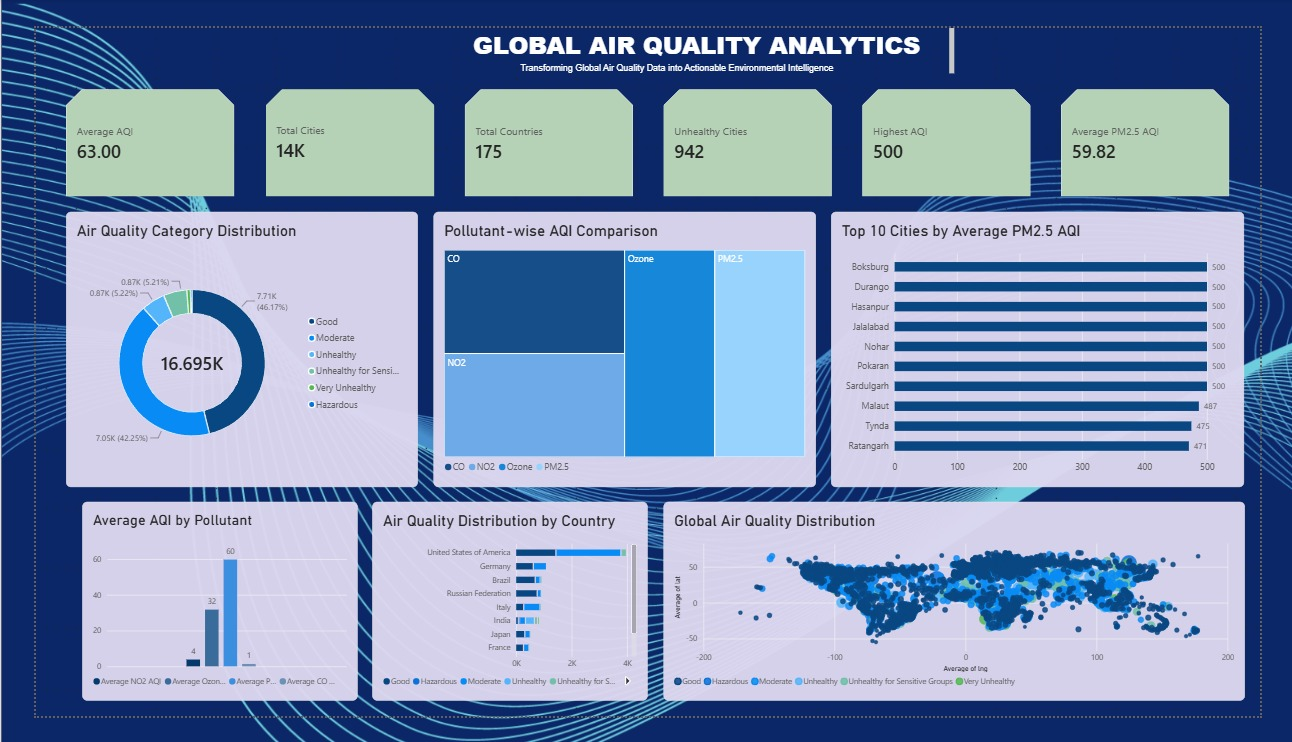

The dashboard page shown, as its layout file describes it:
{"tool":"powerbi","page":{"name":"Page 1","canvas":[1920,1080],"ordinal":0},"visuals":[{"type":"cardVisual","fields":{"Data":["Dataset_Task_03.Average AQI"]},"box":[48,96,264,168],"z":0},{"type":"cardVisual","fields":{"Data":["Dataset_Task_03.Total Cities"]},"box":[360,96,264,168],"z":1000},{"type":"cardVisual","fields":{"Data":["Dataset_Task_03.Total Countries"]},"box":[672,96,264,168],"z":2000},{"type":"cardVisual","fields":{"Data":["Dataset_Task_03.Highest AQI"]},"box":[1296,96,264,168],"z":3000},{"type":"cardVisual","fields":{"Data":["Dataset_Task_03.Unhealthy Cities"]},"box":[984,96,264,168],"z":4000},{"type":"cardVisual","fields":{"Data":["Dataset_Task_03.Average PM2.5 AQI"]},"box":[1608,96,264,168],"z":5000},{"type":"donutChart","title":"Air Quality Category Distribution","fields":{"Category":["Dataset_Task_03.AQI Category"],"Y":["CountNonNull(Dataset_Task_03.City)"]},"box":[0,288,560,432],"z":6000},{"type":"clusteredBarChart","title":"Top 10 Cities by Average PM2.5 AQI","fields":{"Category":["Dataset_Task_03.City"],"Y":["Dataset_Task_03.Average PM2.5 AQI"]},"box":[1248,288,672,432],"z":7000},{"type":"scatterChart","title":"Global Air Quality Distribution","fields":{"Category":["Dataset_Task_03.City"],"Series":["Dataset_Task_03.AQI Category"],"Size":["Avg(Dataset_Task_03.AQI Value)"],"X":["Avg(Dataset_Task_03.lng)"],"Y":["Avg(Dataset_Task_03.lat)"]},"box":[1008,760,912,320],"z":8000},{"type":"barChart","title":"Air Quality Distribution by Country","fields":{"Category":["Dataset_Task_03.Country"],"Series":["Dataset_Task_03.AQI Category"],"Y":["CountNonNull(Dataset_Task_03.City)"]},"box":[464,760,528,320],"z":9000},{"type":"clusteredColumnChart","title":"Average AQI by Pollutant","fields":{"Y":["Dataset_Task_03.Average NO2 AQI","Dataset_Task_03.Average Ozone AQI","Dataset_Task_03.Average PM2.5 AQI","Dataset_Task_03.Average CO AQI"]},"box":[0,760,448,320],"z":10000},{"type":"treemap","title":"Pollutant-wise AQI Comparison","fields":{"Group":["Pollutant Analysis.Pollutant"],"Values":["Dataset_Task_03.Average AQI"]},"box":[608,288,600,432],"z":11000},{"type":"textbox","box":[576,0,864,80],"z":12000}]}

Visuals, with their boxes in screenshot pixels (x1, y1, x2, y2), scaled from the page's 1920x1080 canvas onto the 1292x742 screenshot:
cardVisual - Dataset_Task_03.Average AQI: bbox=(32, 66, 210, 181)
cardVisual - Dataset_Task_03.Total Cities: bbox=(242, 66, 420, 181)
cardVisual - Dataset_Task_03.Total Countries: bbox=(452, 66, 630, 181)
cardVisual - Dataset_Task_03.Highest AQI: bbox=(872, 66, 1050, 181)
cardVisual - Dataset_Task_03.Unhealthy Cities: bbox=(662, 66, 840, 181)
cardVisual - Dataset_Task_03.Average PM2.5 AQI: bbox=(1082, 66, 1260, 181)
"Air Quality Category Distribution" donutChart: bbox=(0, 198, 377, 495)
"Top 10 Cities by Average PM2.5 AQI" clusteredBarChart: bbox=(840, 198, 1291, 495)
"Global Air Quality Distribution" scatterChart: bbox=(678, 522, 1291, 741)
"Air Quality Distribution by Country" barChart: bbox=(312, 522, 668, 741)
"Average AQI by Pollutant" clusteredColumnChart: bbox=(0, 522, 301, 741)
"Pollutant-wise AQI Comparison" treemap: bbox=(409, 198, 813, 495)
textbox: bbox=(388, 0, 969, 55)
